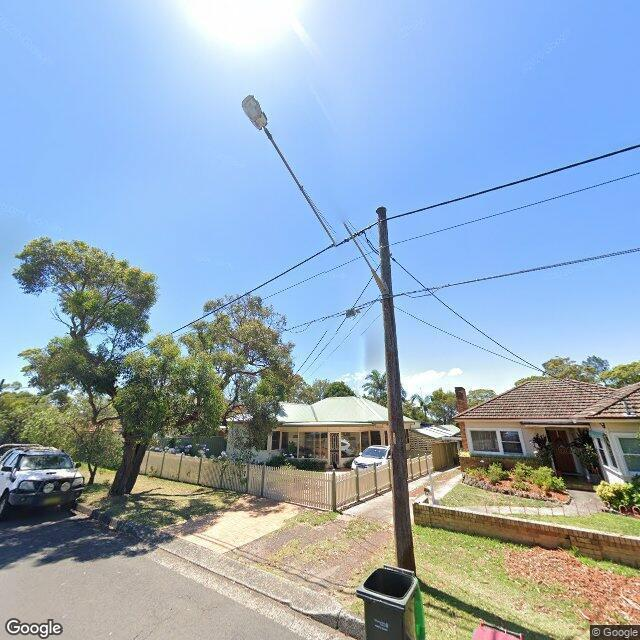streetlight: (240, 96, 390, 297)
timber-pole: (375, 204, 417, 573)
